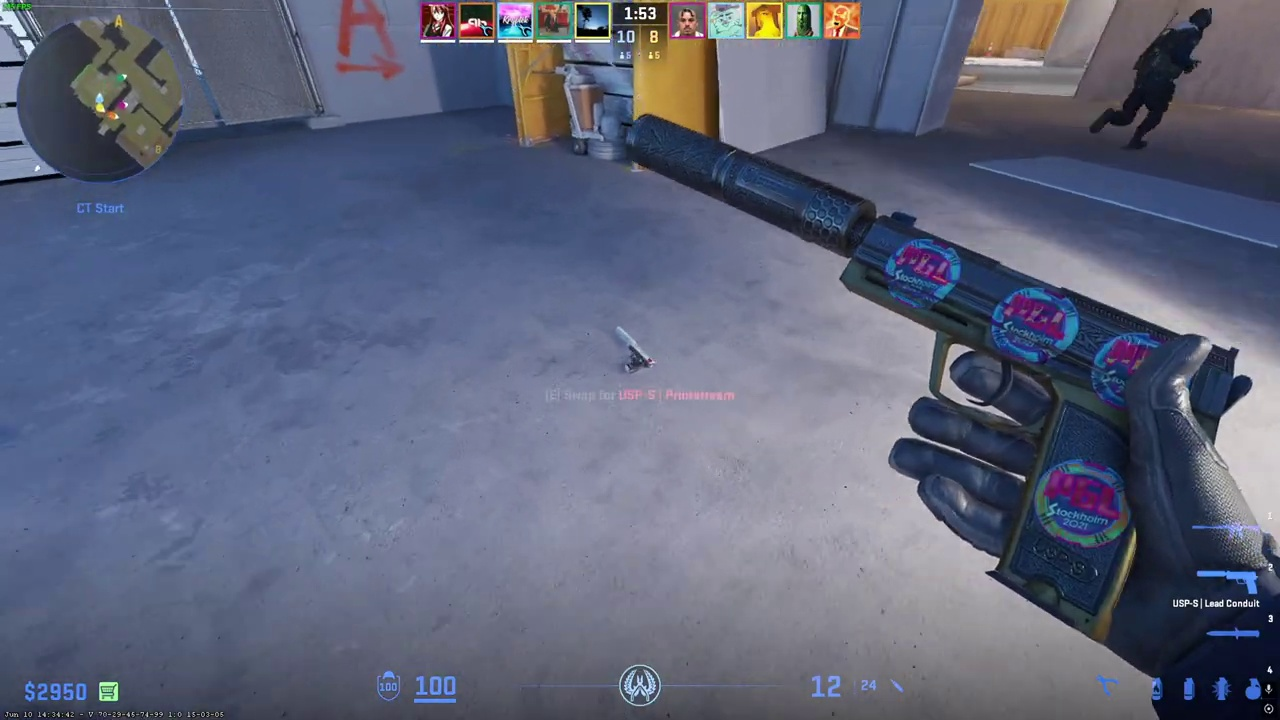CT: (1102, 7, 1208, 152)
